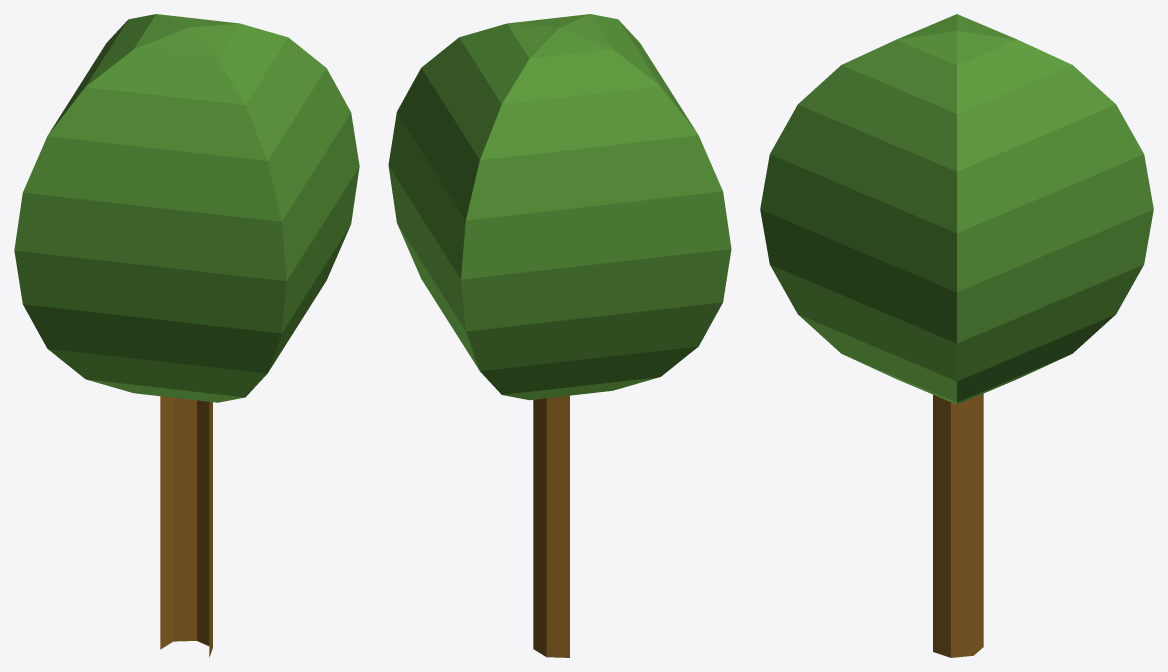
The model's file is Tree.fbx.
3 views of the same model, side by side, from view 1: azimuth 30°, elevation 25°; view 2: azimuth 150°, elevation 25°; view 3: azimuth 270°, elevation 25° (orthographic).
Visible parts, largest first — view 1: Lake_Tree_Leaves, Lake_Tree_Trunk; view 2: Lake_Tree_Leaves, Lake_Tree_Trunk; view 3: Lake_Tree_Leaves, Lake_Tree_Trunk.
Part boxes in pixels (x1=…): Lake_Tree_Leaves: x1=14, y1=14, x2=359, y2=402; Lake_Tree_Trunk: x1=160, y1=396, x2=212, y2=657; Lake_Tree_Leaves: x1=388, y1=14, x2=731, y2=400; Lake_Tree_Trunk: x1=533, y1=395, x2=569, y2=657; Lake_Tree_Leaves: x1=760, y1=14, x2=1153, y2=404; Lake_Tree_Trunk: x1=933, y1=393, x2=983, y2=657.
Bounding box in the file's own units: 29.4 × 50.75 × 29.4.
